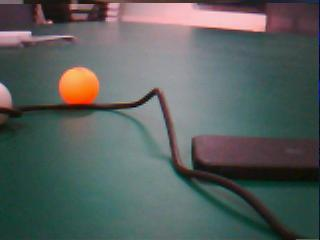oball: (59, 66, 98, 107)
